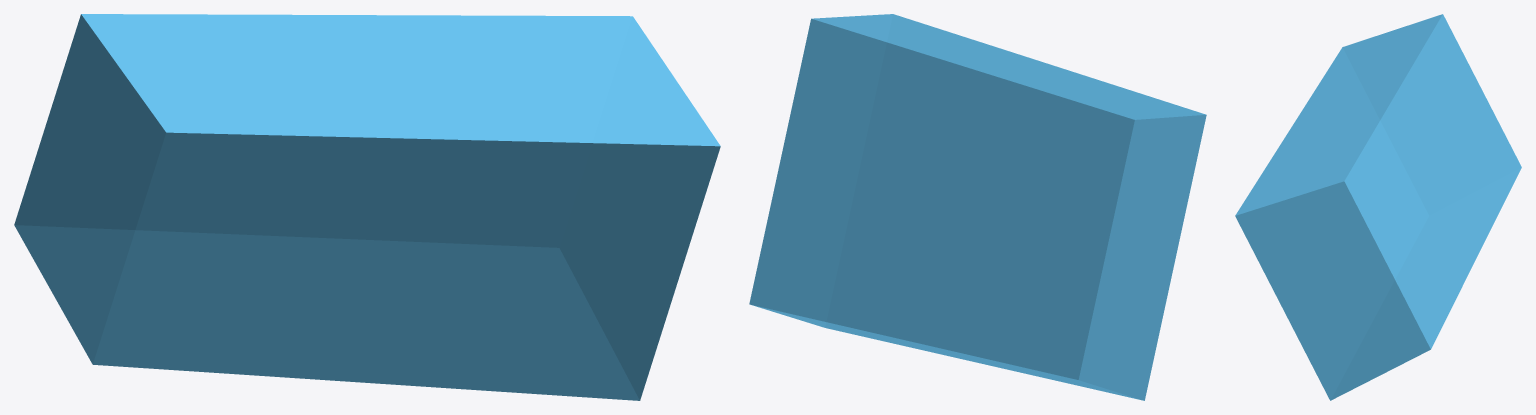
Rendered from Event_420094457_HErechit_32.fbx.
3 views of the same model, side by side, from view 1: azimuth 30°, elevation 25°; view 2: azimuth 150°, elevation 25°; view 3: azimuth 270°, elevation 25° (orthographic). The views are drawn at different scales.
Parts seen in each view (by area): view 1: Model; view 2: Model; view 3: Model.
Part boxes in pixels (x1,y1,x2,y2): Model: (14, 14, 720, 400); Model: (749, 14, 1206, 400); Model: (1235, 14, 1521, 400).
Size of the model in its own units: 0.997 by 0.8752 by 0.8971.
